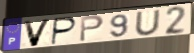2: (164, 4, 187, 38)
9: (109, 13, 132, 38)
P: (50, 16, 79, 47), (79, 14, 106, 43)
U: (134, 9, 162, 37)
V: (22, 18, 53, 48)
